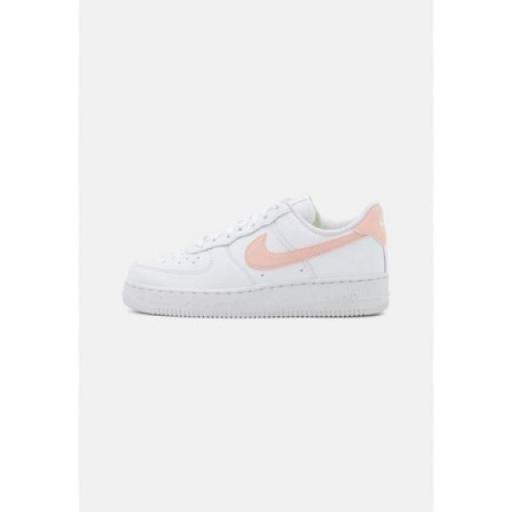Nike: (238, 227, 370, 275)
